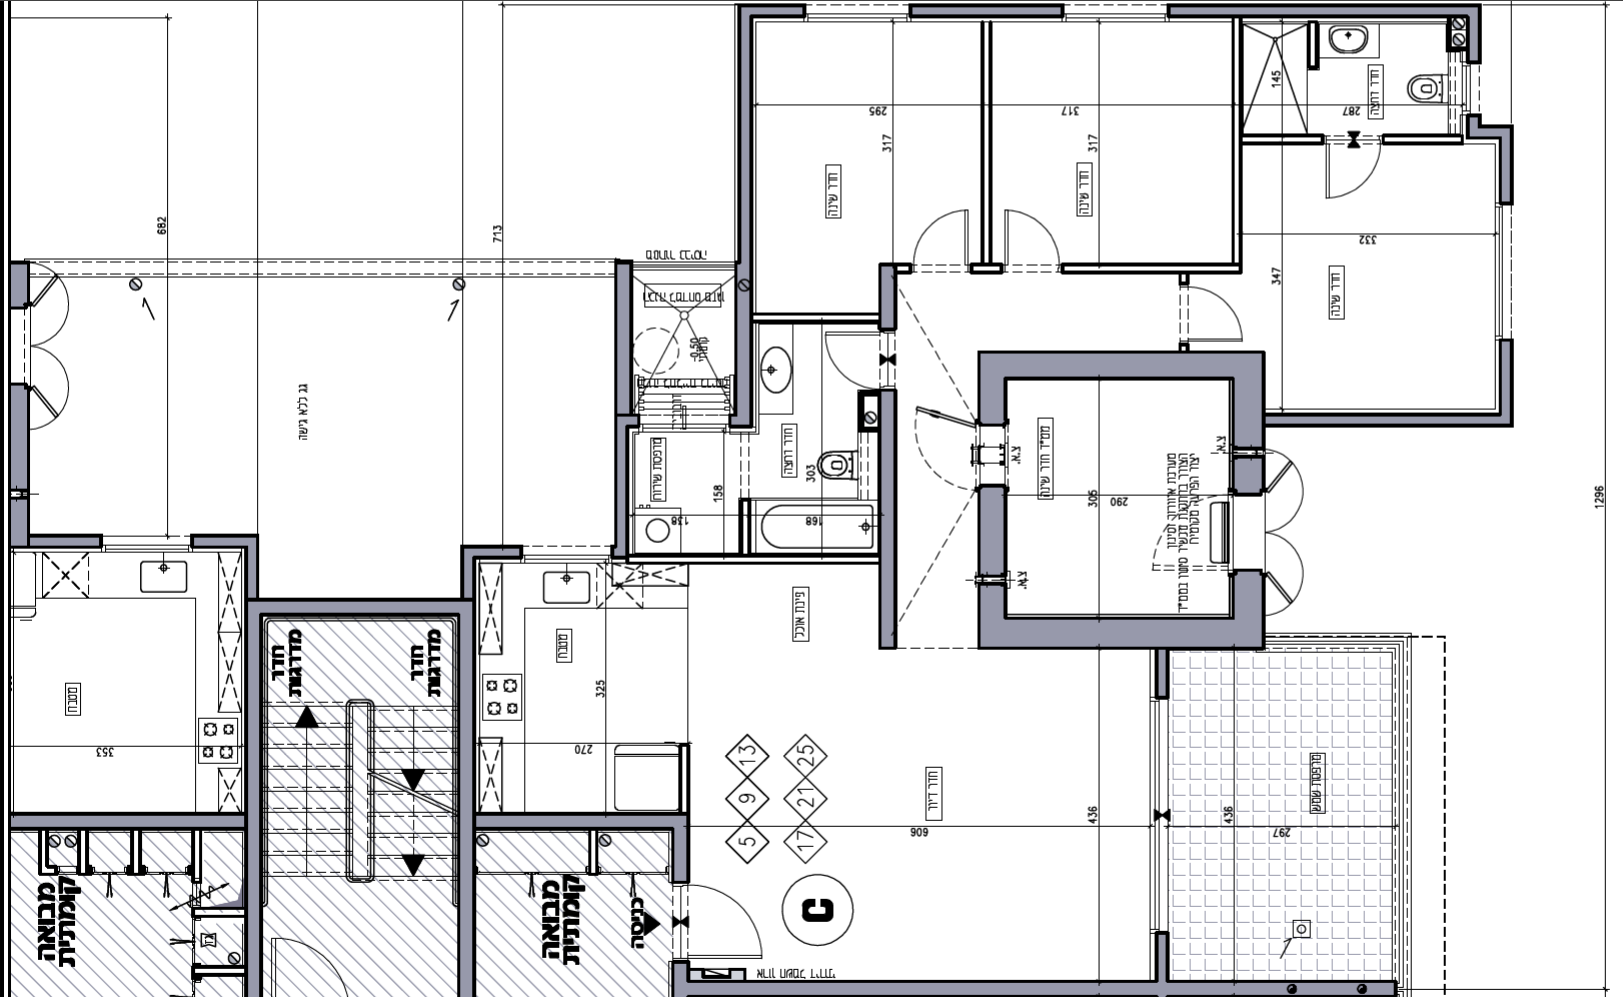door: (693, 875, 772, 963), (1317, 147, 1387, 214), (1191, 281, 1261, 347), (998, 208, 1067, 263), (908, 205, 977, 260)
wall: (686, 980, 1393, 996), (978, 350, 1262, 383), (982, 613, 1262, 646), (458, 601, 474, 995), (879, 391, 896, 650), (474, 814, 686, 828)
window: (1495, 204, 1512, 344), (1062, 2, 1169, 21), (805, 3, 910, 22), (100, 534, 192, 554), (517, 545, 610, 563)
